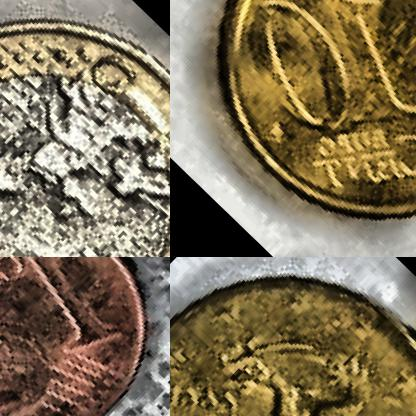coin: (170, 0, 415, 256), (0, 0, 169, 256), (170, 257, 415, 415), (0, 257, 169, 415)
